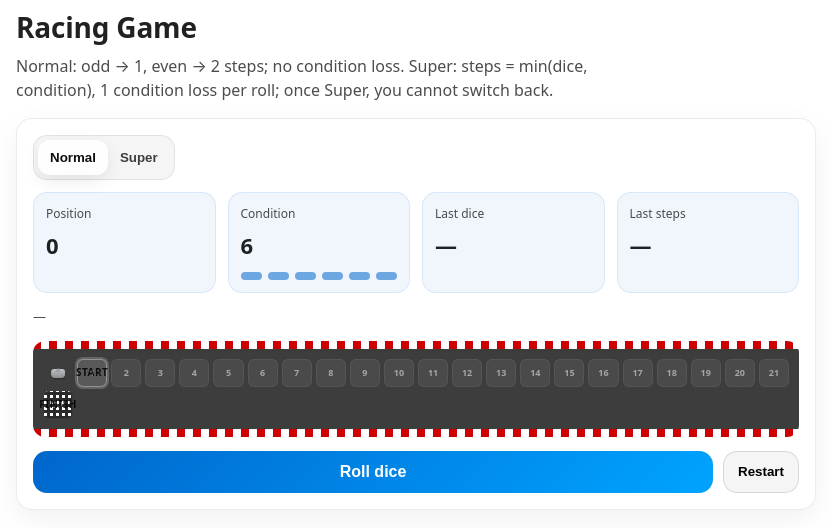
RacingGame › uses super mode when selected
Click the button with test id "mode-super". click: (139,158)
box: [108, 140, 170, 175]
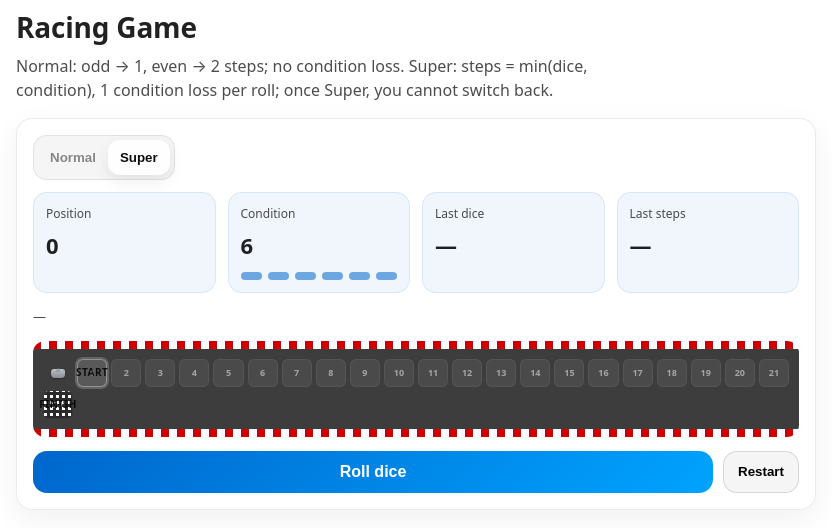
Click the button with test id "roll". click: (373,472)
box: [33, 451, 713, 493]
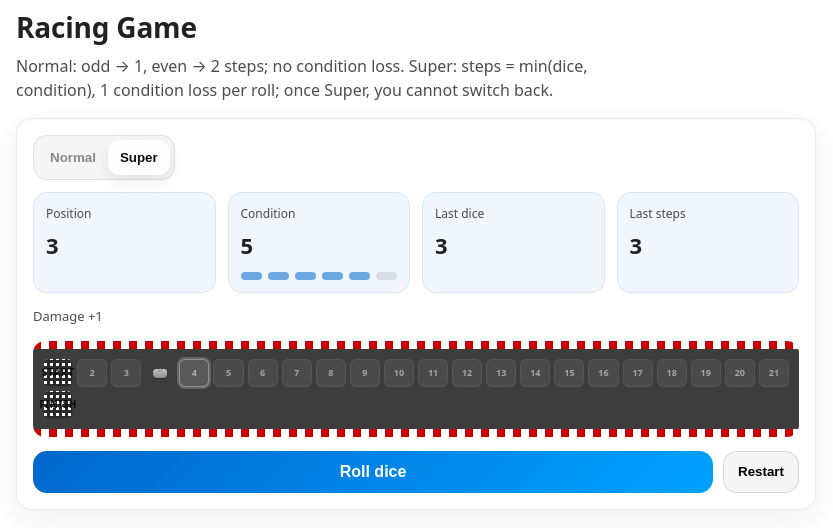
Result: the text with test id "dice" reads "3" at [435, 230, 447, 260]
Result: the text with test id "steps" reads "3" at [630, 230, 642, 260]
Result: the text with test id "position" reads "3" at [46, 230, 58, 260]
